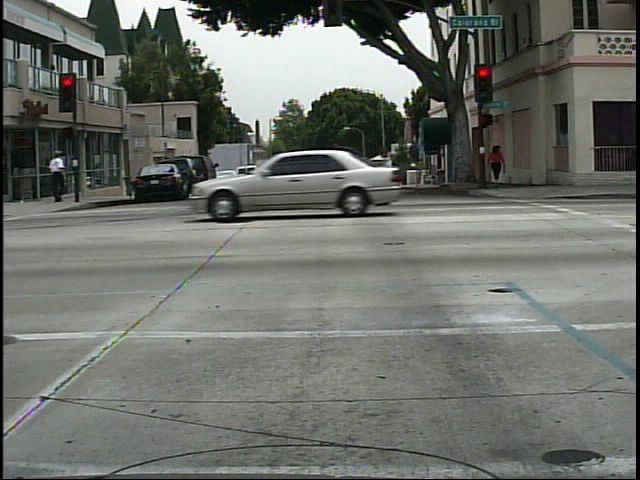person: (486, 137, 512, 192), (49, 144, 71, 207)
